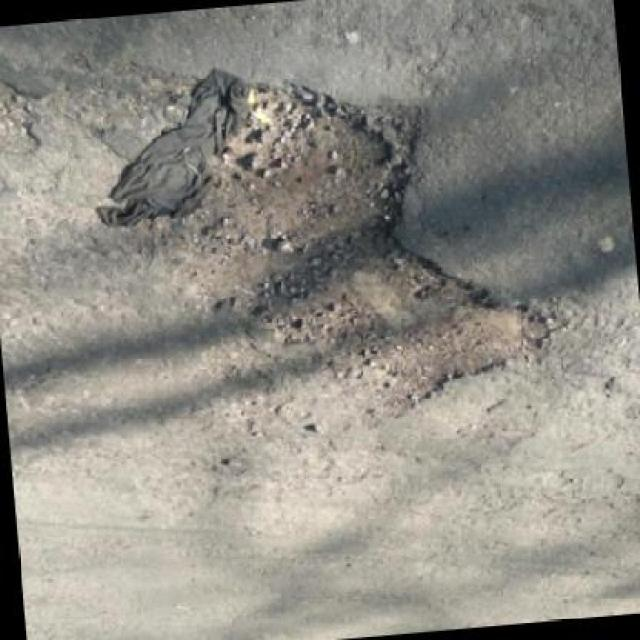pothole: (141, 50, 565, 439)
